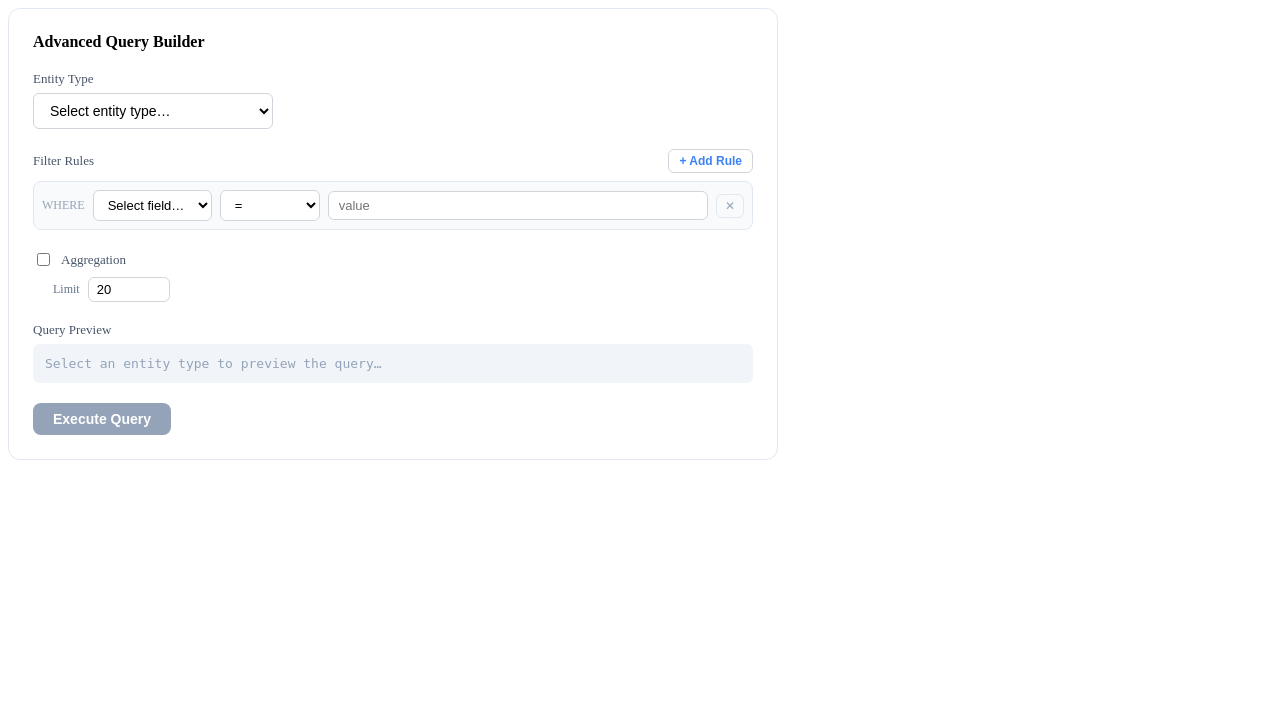
it: AdvancedQueryBuilder › filter rule management › updates filter value in query preview
The image size is (1280, 720).
Select "contact" in the dropdown labelled "Entity Type" at (153, 111), box 33,93 -> 273,129
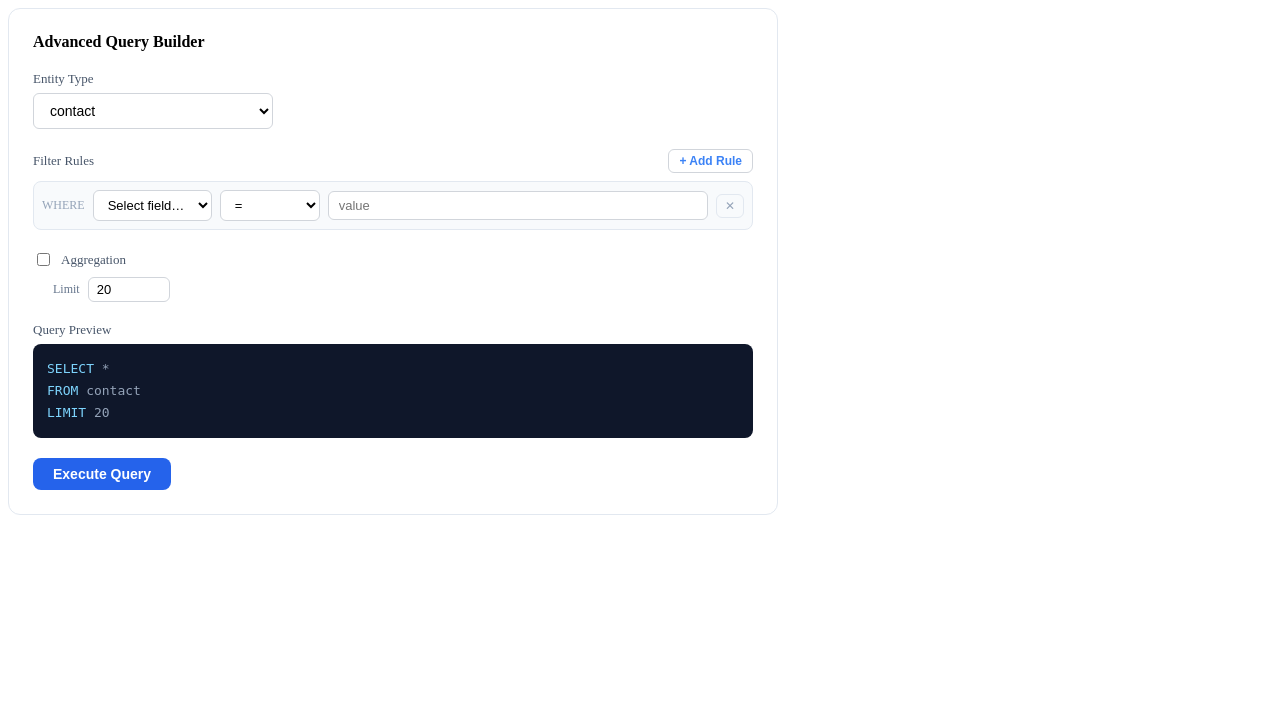
Select "stage" in the dropdown named "Filter field" at (152, 206), box 93,190 -> 212,221
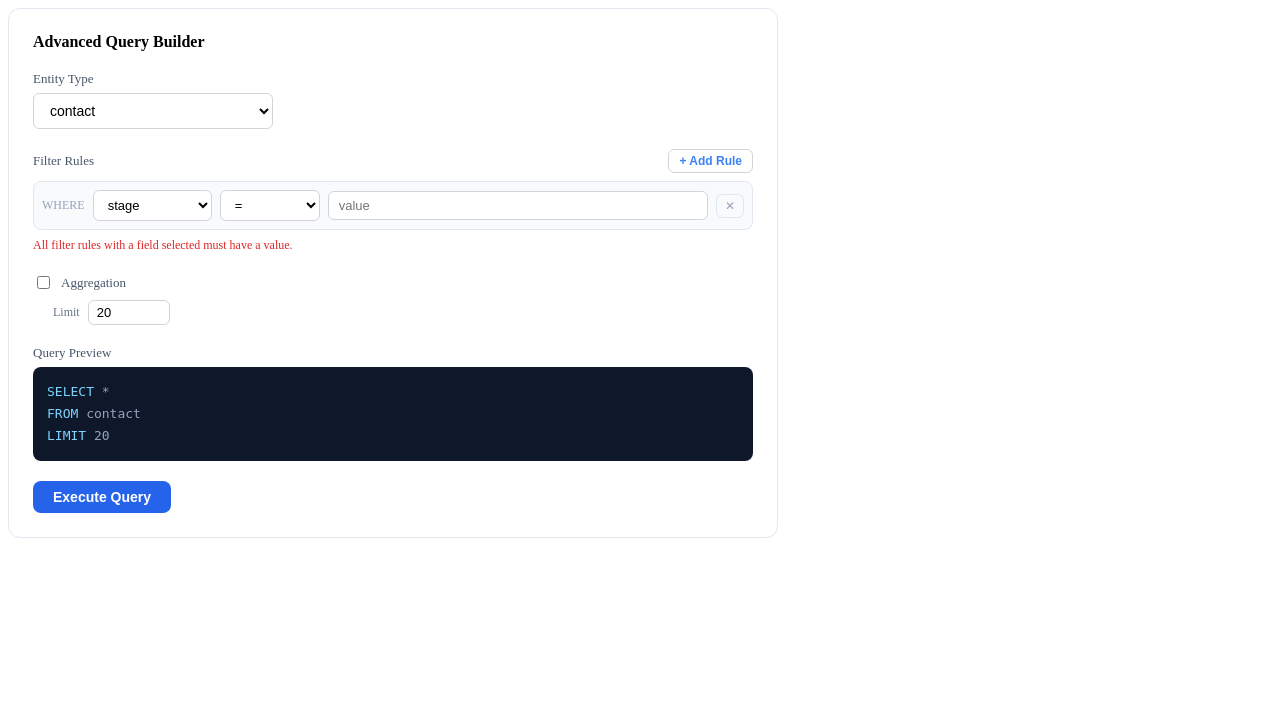
Type "customer" into the field named "Filter value".
click(518, 206); type("customer")  # box 328,191 -> 708,220
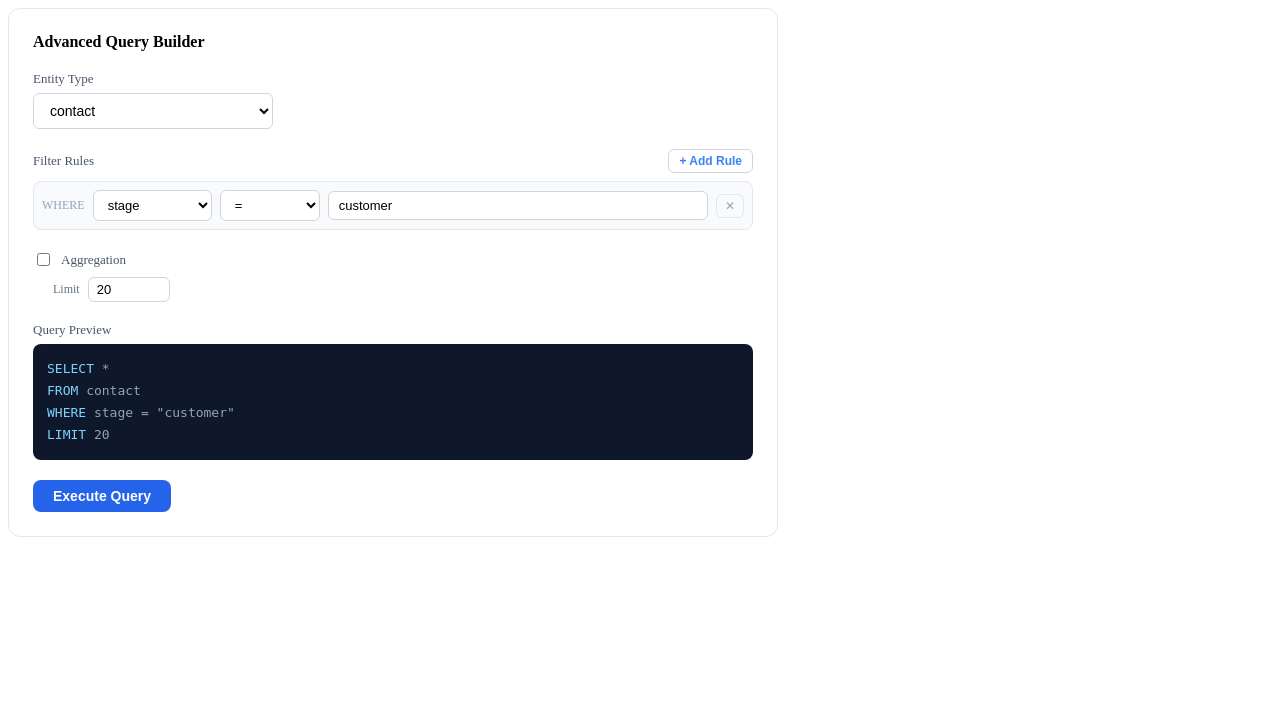
Now the element named "Query string preview" shows "stage = \"customer\"", box 86,405 -> 235,420
